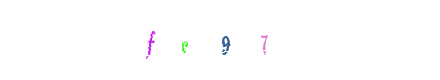7: (185, 0, 265, 80)
9: (180, 0, 260, 80)
F: (144, 0, 224, 80)
R: (148, 0, 228, 80)
